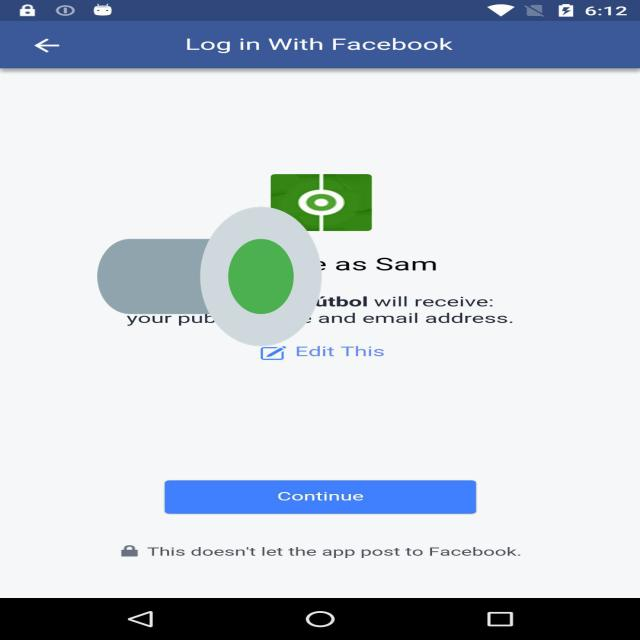social proof: (97, 148, 322, 405)
